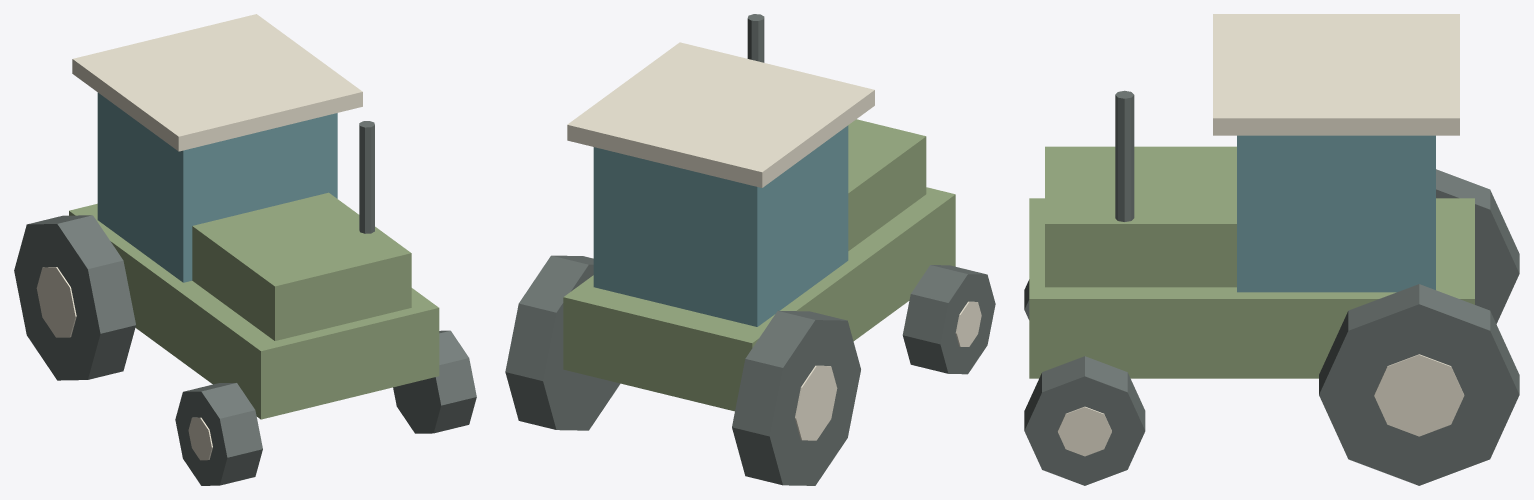
The picture shows the model from 3 angles, left to right: view 1: azimuth 30°, elevation 25°; view 2: azimuth 150°, elevation 25°; view 3: azimuth 270°, elevation 25°; orthographic projection. The views are drawn at different scales.
Bounding box in the file's own units: 2.12 × 2.45 × 3.11.
